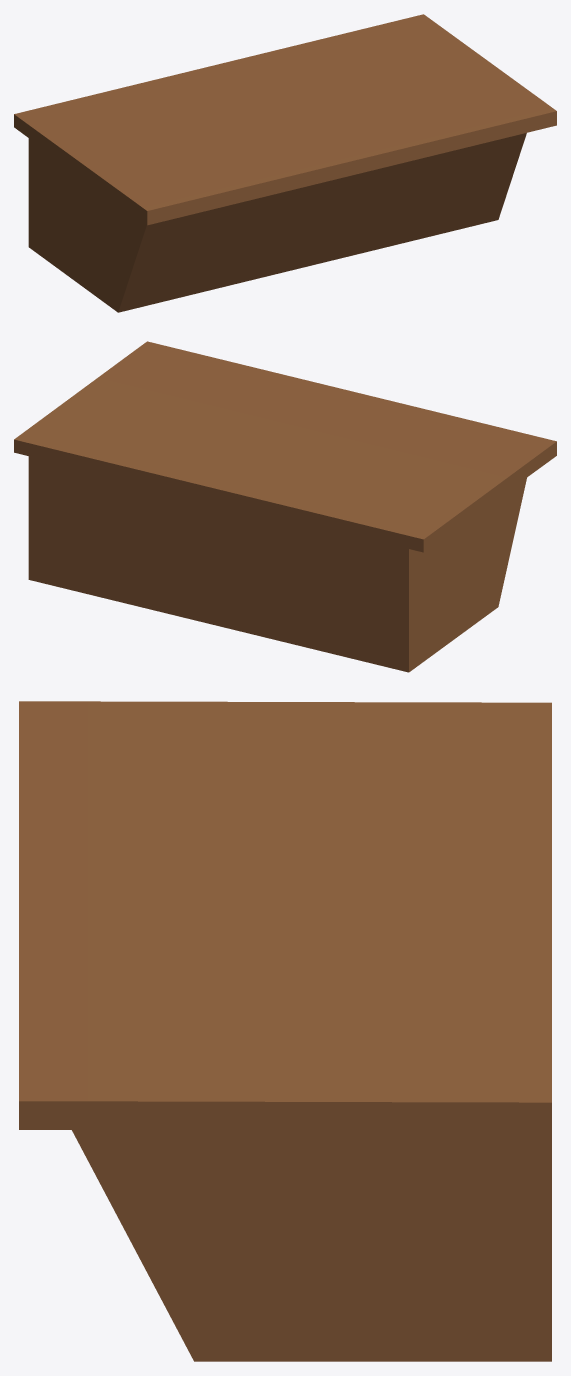
Rendered from Market_Table_01.fbx.
The picture shows the model from 3 angles, top to bottom: view 1: azimuth 30°, elevation 25°; view 2: azimuth 150°, elevation 25°; view 3: azimuth 270°, elevation 25°; orthographic projection. The views are drawn at different scales.
Parts seen in each view (by area): view 1: Market_Table_01; view 2: Market_Table_01; view 3: Market_Table_01.
Part boxes in pixels (x1=…): Market_Table_01: x1=14, y1=14, x2=556, y2=312; Market_Table_01: x1=14, y1=341, x2=556, y2=672; Market_Table_01: x1=19, y1=701, x2=551, y2=1361.
Bounding box in the file's own units: 212 × 67.79 × 119.
